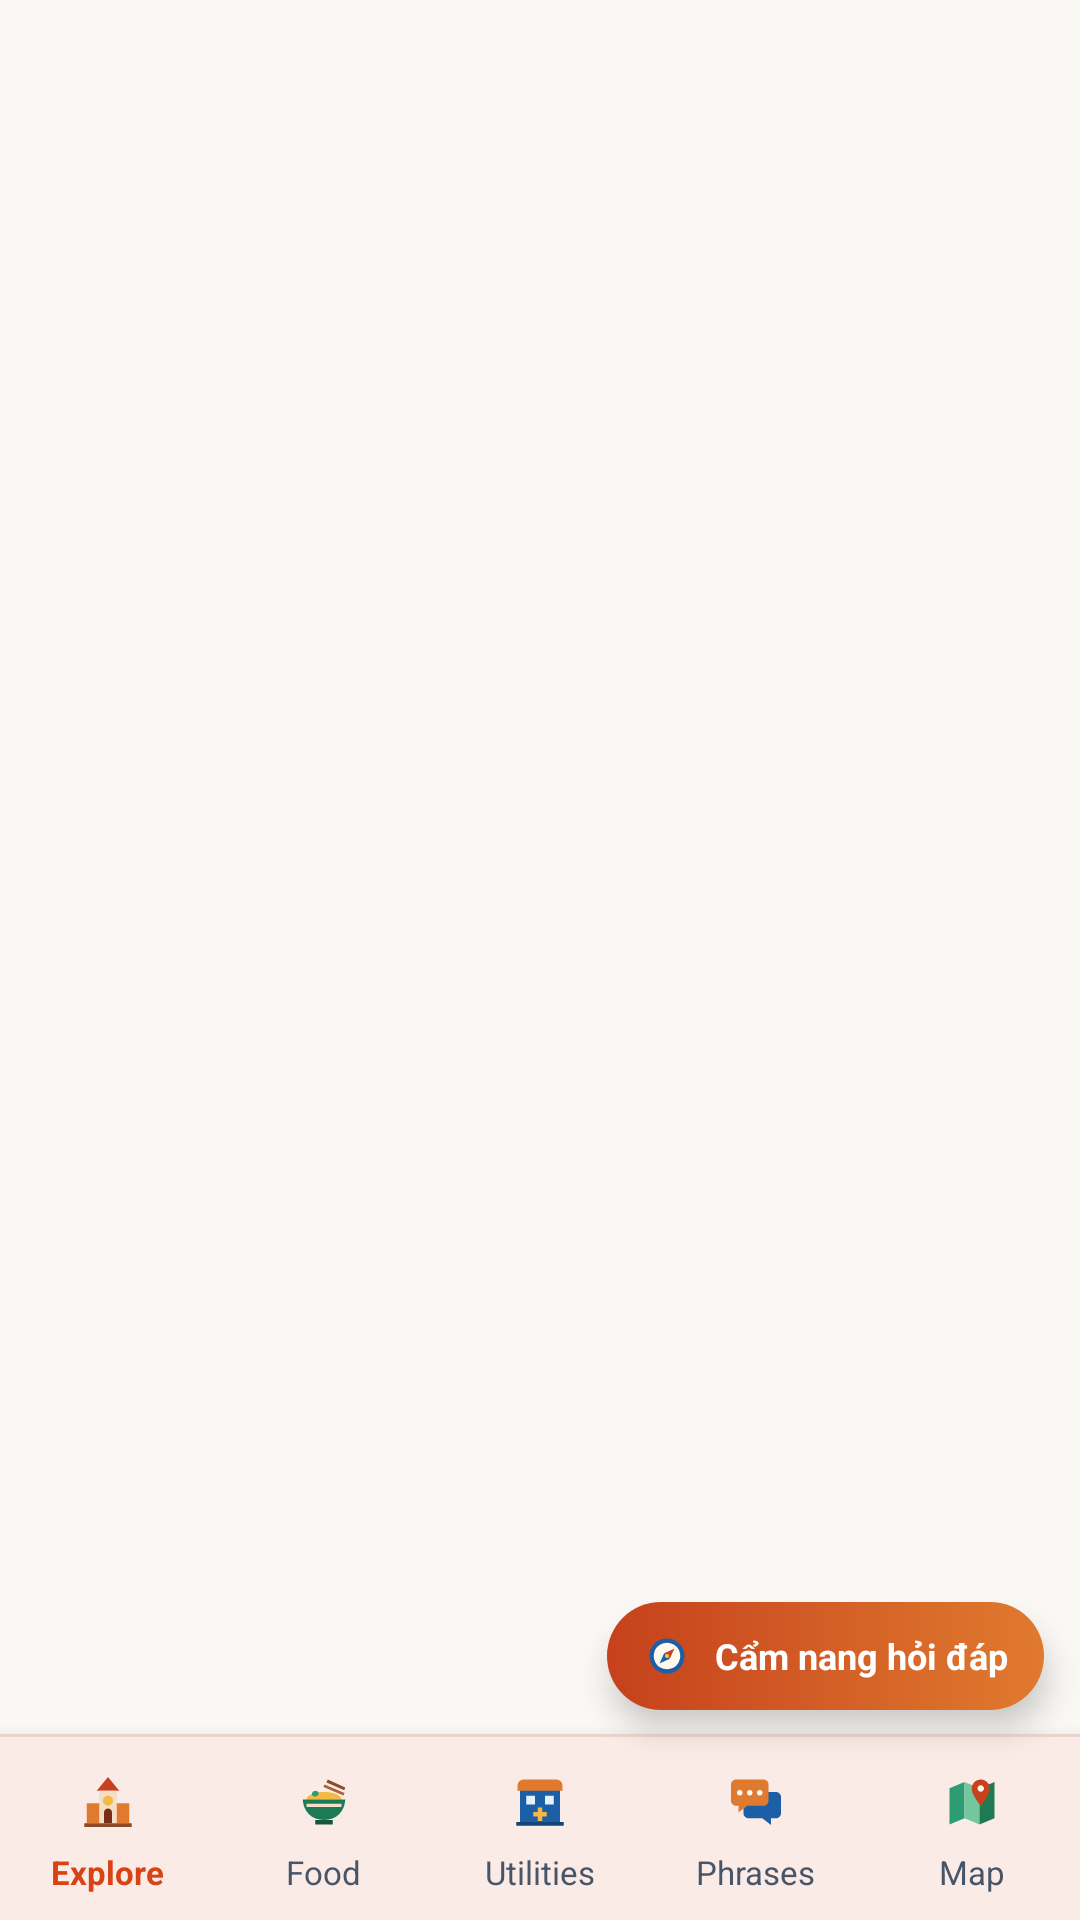

Icon bounding boxes for this 1080px×1920px phone screenshot, format (x1, y1, x2, y2):
attractions: (84, 1777, 132, 1827)
guide compass: (649, 1638, 685, 1674)
